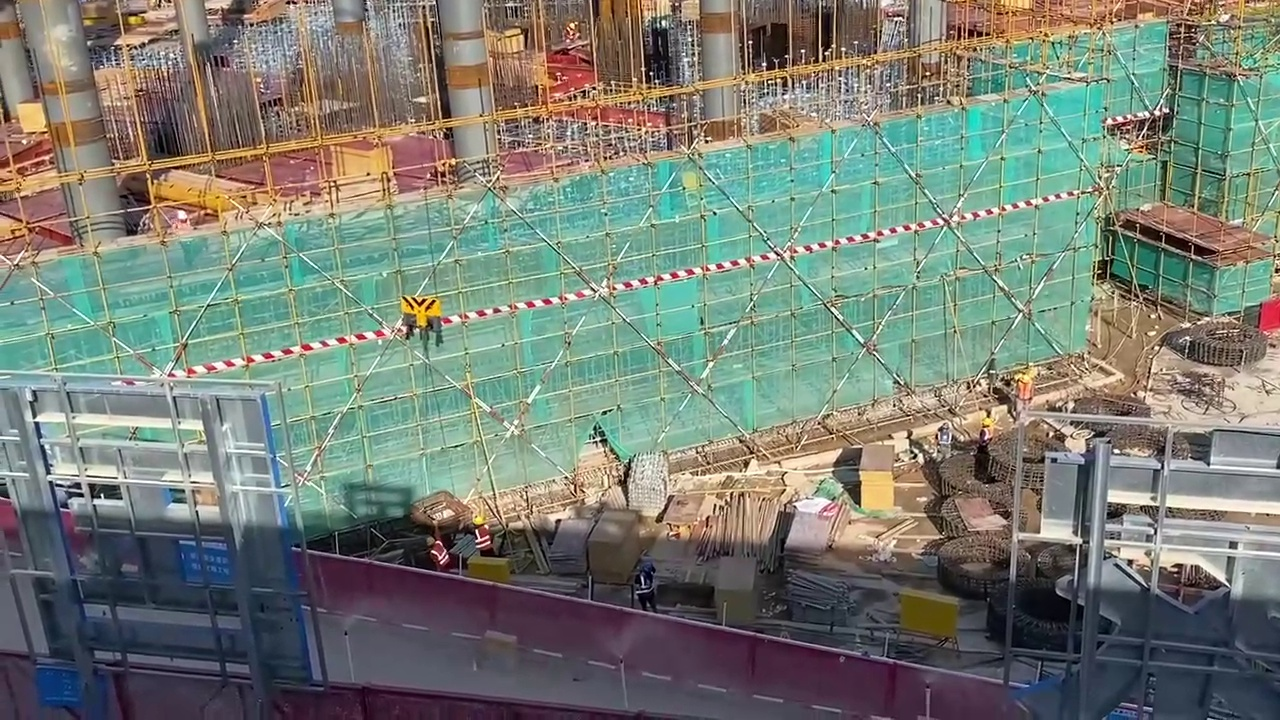board: (857, 441, 893, 508)
fence: (1, 648, 604, 720)
hook: (397, 294, 439, 329)
person: (631, 558, 659, 611), (467, 513, 496, 557), (421, 531, 450, 573)
vest: (474, 526, 494, 549), (429, 545, 449, 567)
wood: (703, 493, 776, 563)
